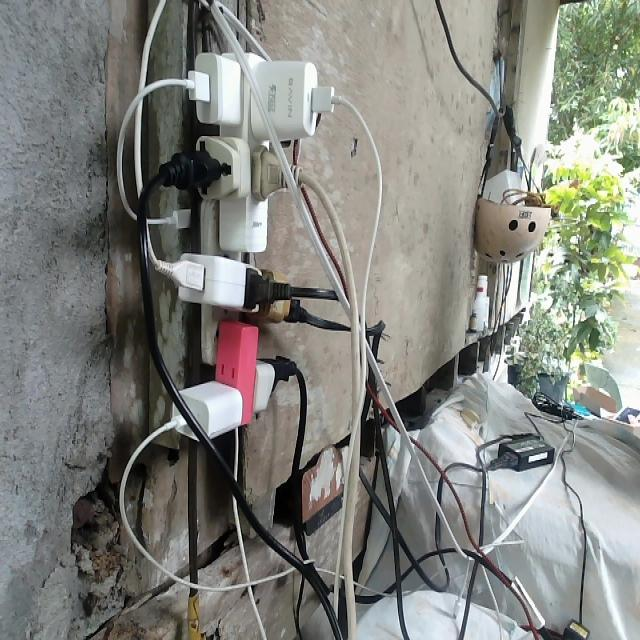-: (117, 48, 339, 440)
